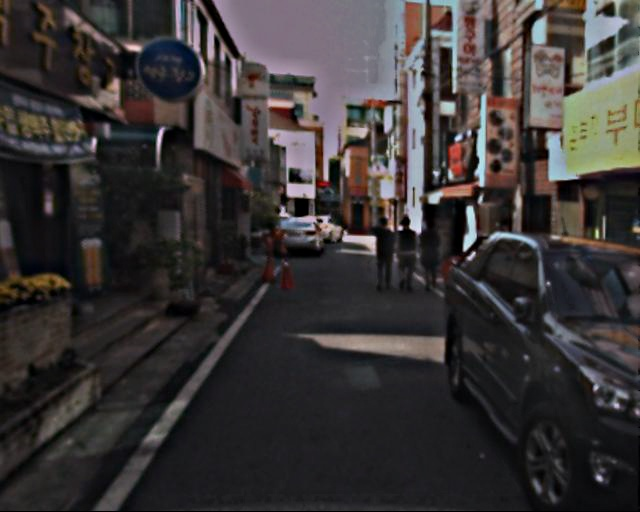person: (368, 215, 400, 292), (389, 217, 420, 293), (413, 221, 443, 294)
